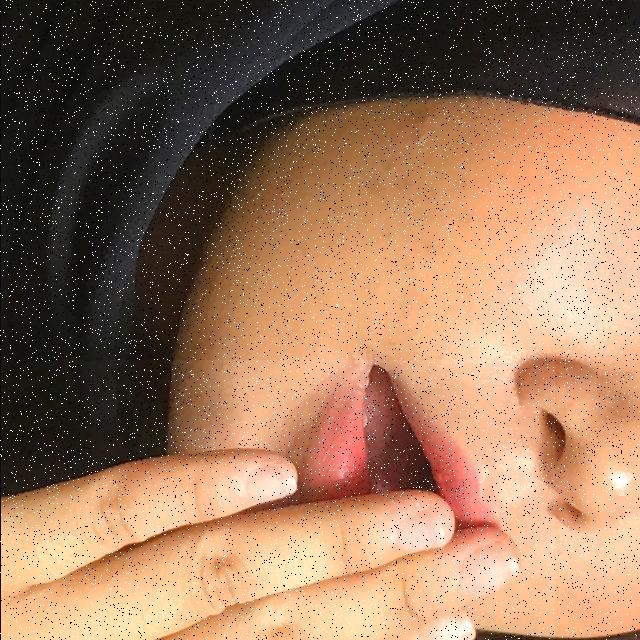ngantuk: (0, 360, 554, 640)
